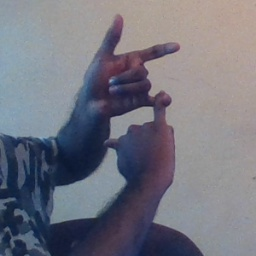S: (78, 13, 188, 186)
